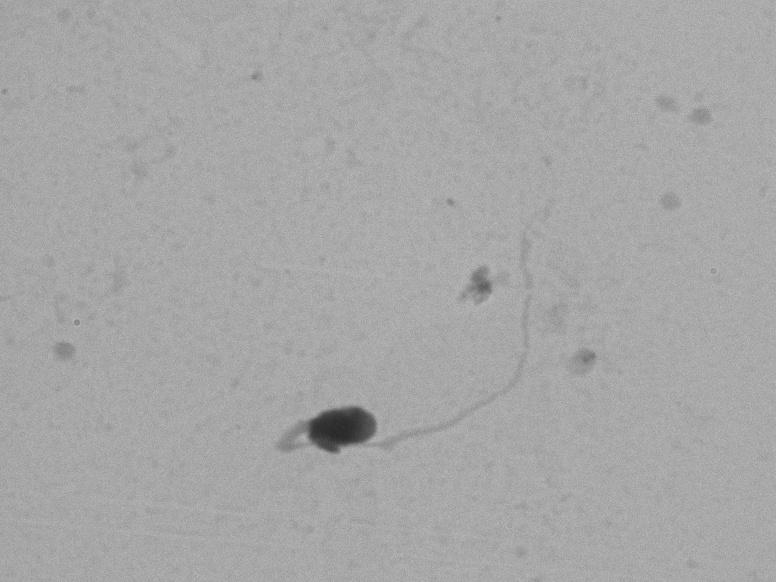Abnormal: (255, 213, 566, 512)
